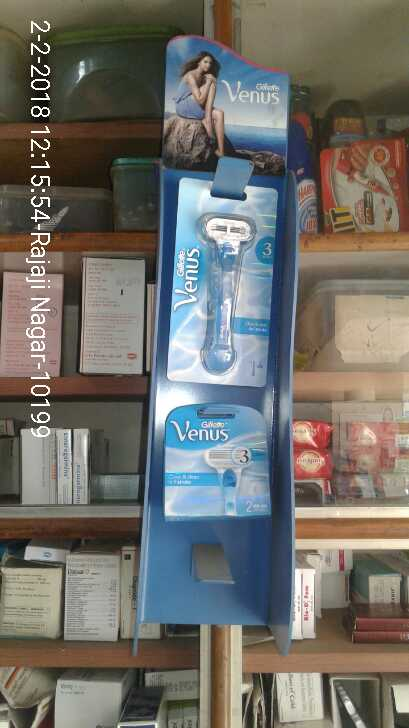venus: (164, 164, 277, 388), (160, 398, 277, 520)
